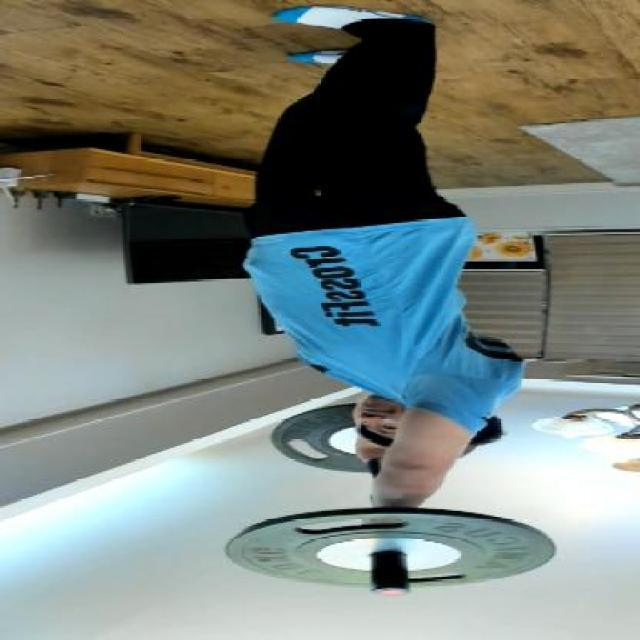Barbell: (366, 583, 419, 600)
